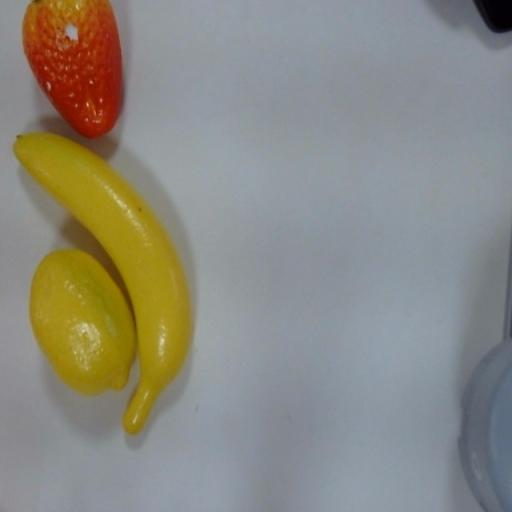Ripe: (16, 140, 193, 437), (16, 0, 138, 136), (31, 251, 134, 395)
